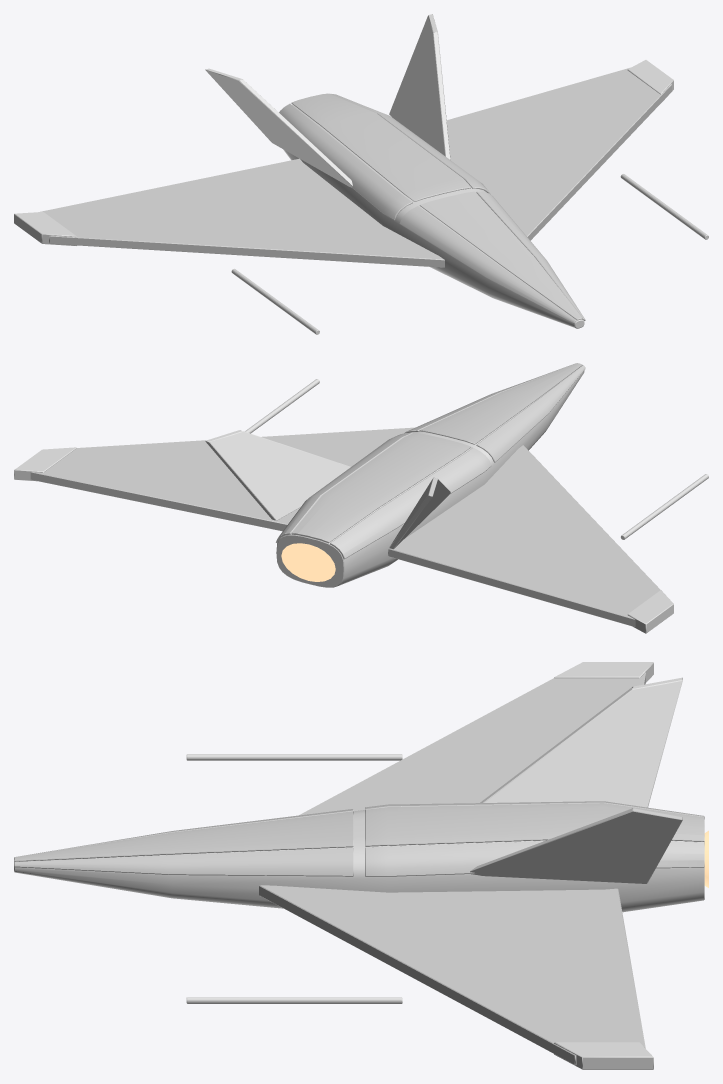
The model's file is raider.glb.
The picture shows the model from 3 angles, top to bottom: view 1: azimuth 30°, elevation 25°; view 2: azimuth 150°, elevation 25°; view 3: azimuth 270°, elevation 25°; orthographic projection. The views are drawn at different scales.
Parts seen in each view (by area): view 1: Raider; view 2: Raider, Glow; view 3: Raider.
Part boxes in pixels (x1,y1,x2,y2): Raider: (14, 14, 708, 334); Raider: (14, 363, 708, 633); Glow: (281, 543, 335, 581); Raider: (14, 662, 704, 1069).
Size of the model in its own units: 13 by 2.31 by 9.66.
